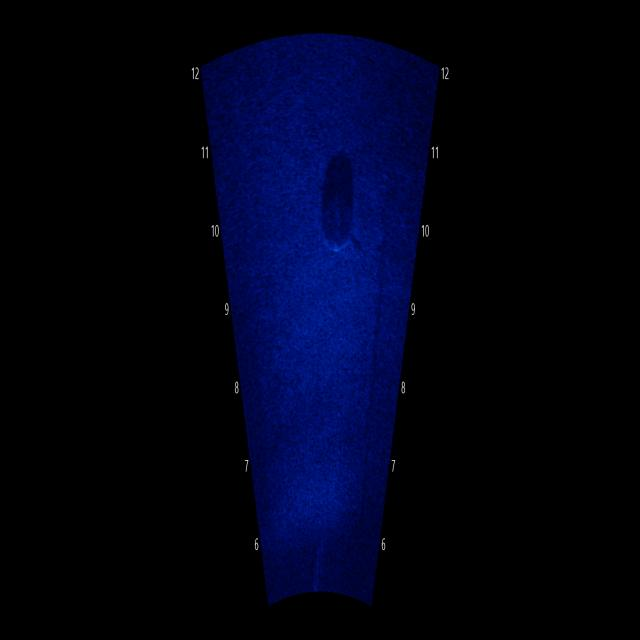circle: (314, 160, 362, 281)
